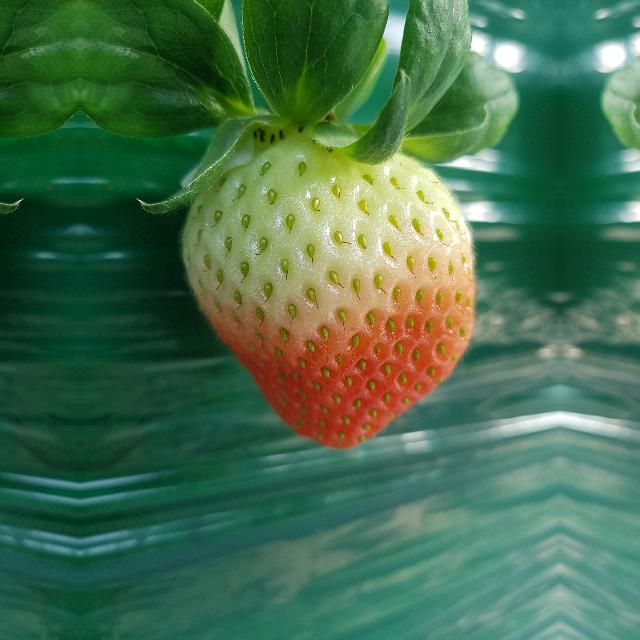Health_50: (183, 134, 477, 448)
